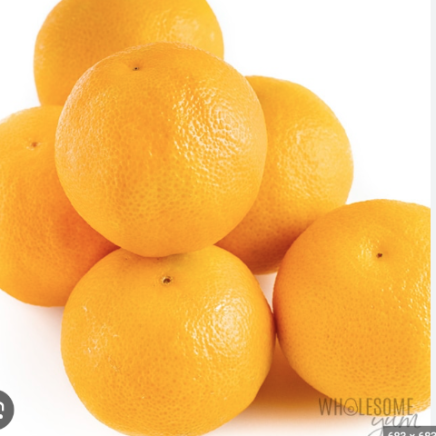orange: (49, 236, 308, 432), (46, 44, 282, 258), (269, 165, 436, 416)
